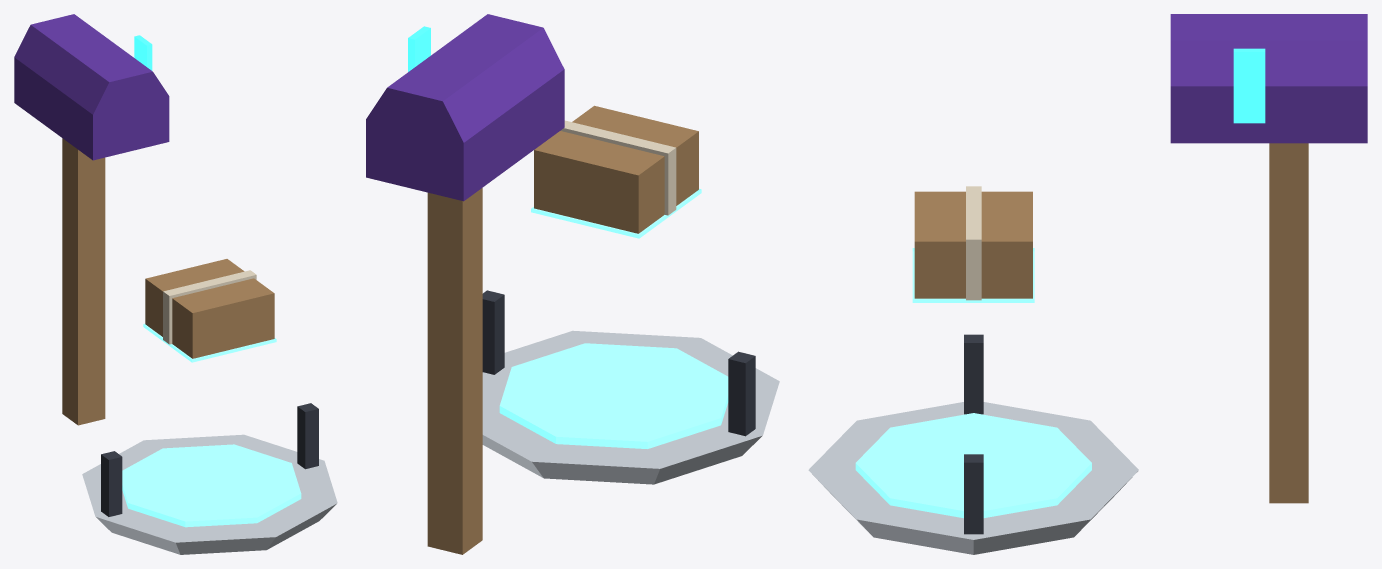
Rendered from Prop_Mailbox_Teleporter.fbx.
3 renders of one model, left to right at view 1: azimuth 30°, elevation 25°; view 2: azimuth 150°, elevation 25°; view 3: azimuth 270°, elevation 25°, orthographic. The views are drawn at different scales.
Parts seen in each view (by area): view 1: Prop_Mailbox_Teleporter_Body, Prop_Mailbox_Teleporter_Parcel; view 2: Prop_Mailbox_Teleporter_Body, Prop_Mailbox_Teleporter_Parcel; view 3: Prop_Mailbox_Teleporter_Body, Prop_Mailbox_Teleporter_Parcel.
Part boxes in pixels (left/top/right/bottom): Prop_Mailbox_Teleporter_Body: left=14, top=14, right=337, bottom=554; Prop_Mailbox_Teleporter_Parcel: left=143, top=259, right=276, bottom=362; Prop_Mailbox_Teleporter_Body: left=366, top=14, right=779, bottom=554; Prop_Mailbox_Teleporter_Parcel: left=531, top=105, right=701, bottom=238; Prop_Mailbox_Teleporter_Body: left=808, top=14, right=1367, bottom=554; Prop_Mailbox_Teleporter_Parcel: left=912, top=186, right=1034, bottom=302.
Bounding box in the file's own units: 0.84 × 1.32 × 1.42.
